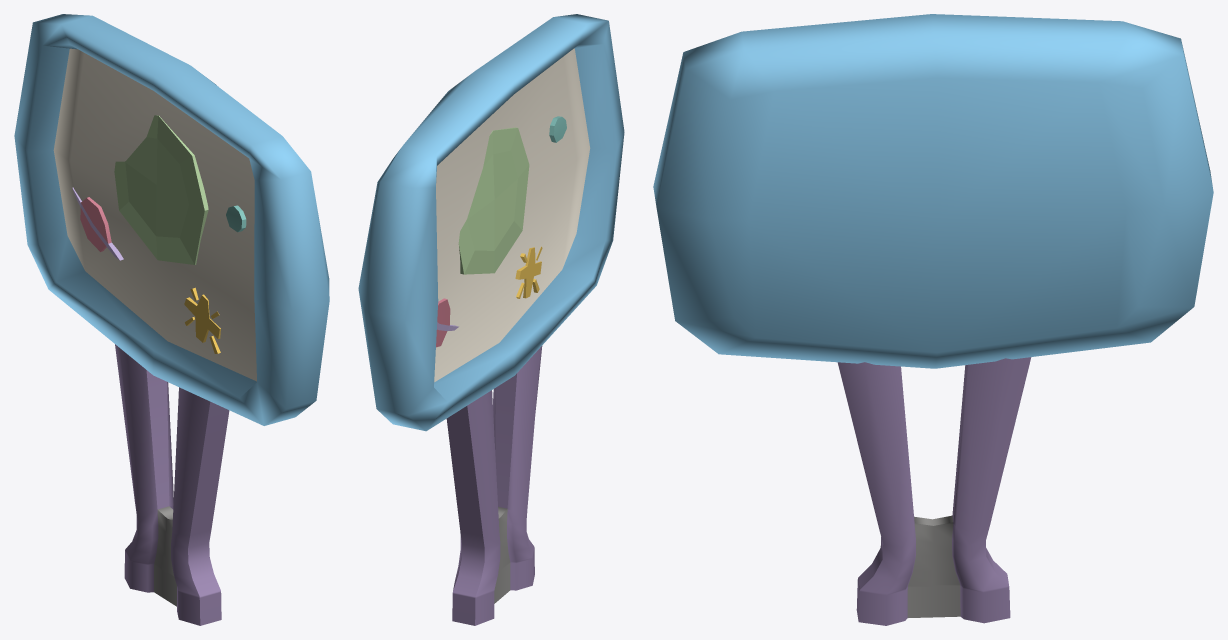
Rendered from Billboard_1.fbx.
3 views of the same model, side by side, from view 1: azimuth 30°, elevation 25°; view 2: azimuth 150°, elevation 25°; view 3: azimuth 270°, elevation 25° (orthographic). The views are drawn at different scales.
Parts seen in each view (by area): view 1: Billboard_1; view 2: Billboard_1; view 3: Billboard_1.
Part boxes in pixels (x1,y1,x2,y2): Billboard_1: (14,14,329,625); Billboard_1: (358,14,624,625); Billboard_1: (653,14,1213,625).
Bounding box in the file's own units: 98.37 × 420 × 487.
